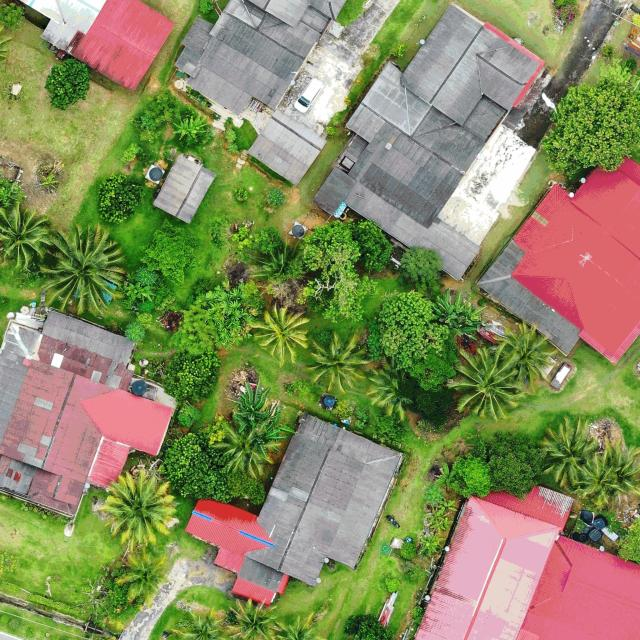Tree: (540, 59, 640, 179), (38, 224, 127, 315), (158, 431, 264, 507), (301, 220, 379, 322), (96, 471, 180, 547), (379, 288, 452, 369), (449, 343, 522, 421), (209, 415, 294, 480), (193, 279, 267, 350), (572, 442, 640, 507), (304, 330, 372, 395), (139, 218, 202, 287), (539, 416, 600, 486), (248, 303, 311, 367), (491, 322, 557, 382), (488, 429, 540, 501), (0, 203, 54, 271), (364, 358, 417, 422), (168, 299, 225, 357), (250, 241, 306, 299), (161, 352, 223, 403), (223, 596, 288, 640), (114, 550, 170, 600), (432, 289, 486, 339), (97, 172, 146, 225), (347, 219, 393, 274), (45, 56, 91, 110), (228, 380, 271, 433), (448, 452, 494, 499), (168, 607, 232, 640), (251, 406, 296, 451), (270, 609, 327, 640), (399, 246, 443, 285), (343, 612, 395, 640), (616, 518, 640, 564), (171, 113, 210, 140), (423, 504, 453, 532), (417, 533, 446, 559), (0, 1, 25, 31), (434, 463, 455, 490), (399, 538, 418, 561), (382, 575, 401, 594)
